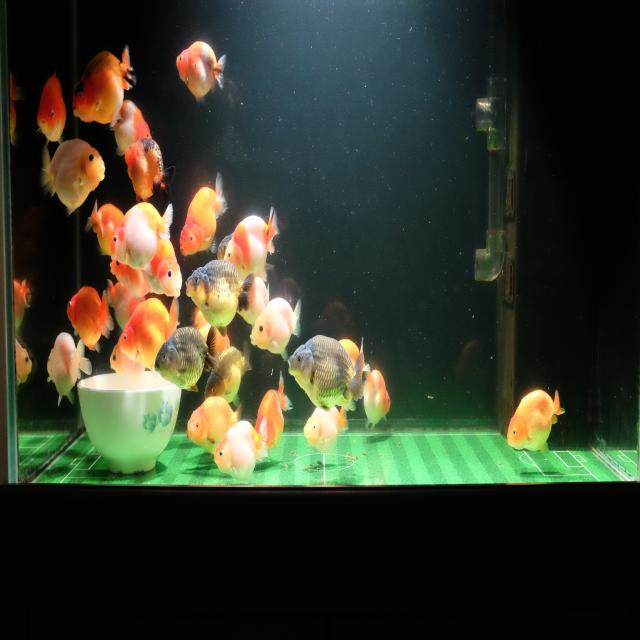Goldfish: (287, 333, 364, 415), (71, 44, 138, 127), (185, 258, 254, 337), (40, 136, 106, 218), (119, 295, 181, 378), (109, 202, 175, 278), (178, 170, 230, 258), (154, 325, 217, 392), (224, 204, 280, 278), (506, 387, 566, 456), (123, 135, 175, 205), (214, 417, 268, 483), (254, 372, 293, 462), (249, 296, 302, 362), (186, 396, 245, 455), (47, 330, 91, 408), (66, 284, 115, 354), (176, 39, 227, 106), (204, 340, 252, 403), (110, 99, 152, 159), (144, 236, 183, 300), (35, 72, 67, 148), (84, 199, 125, 258), (302, 406, 349, 456), (361, 366, 392, 430), (110, 257, 150, 299), (16, 336, 34, 391)
